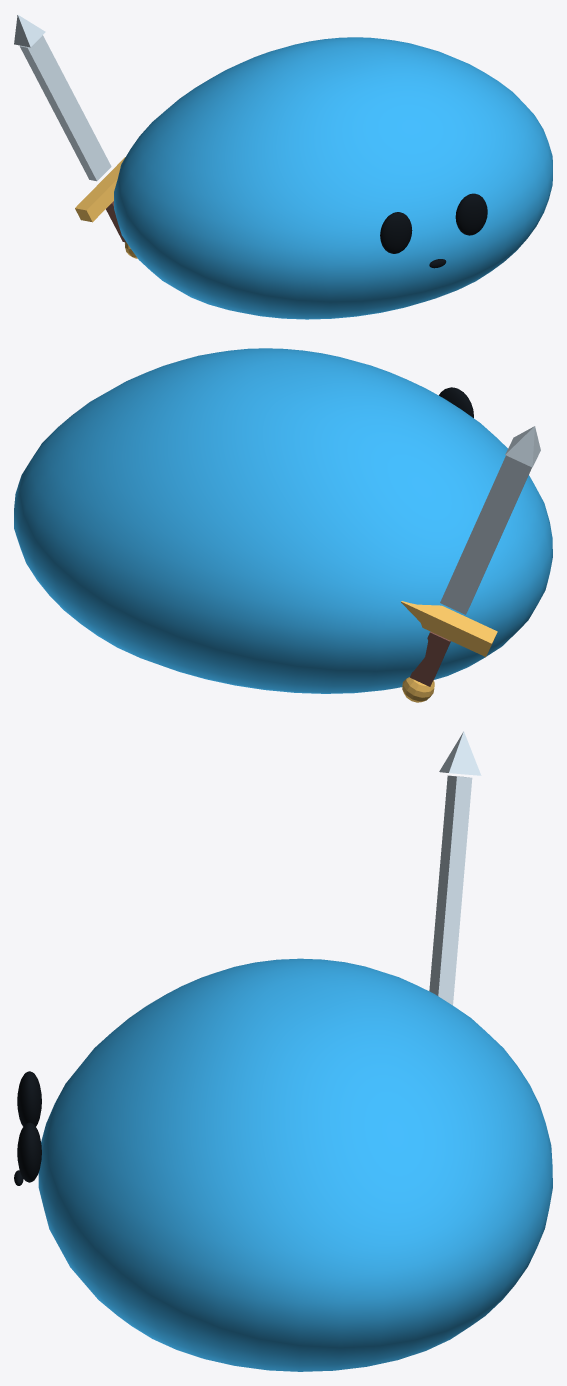
Rendered from sword-slime.glb.
3 views of the same model, one above another, from view 1: azimuth 30°, elevation 25°; view 2: azimuth 150°, elevation 25°; view 3: azimuth 270°, elevation 25° (orthographic). The views are drawn at different scales.
Parts seen in each view (by area): view 1: Body, Sword_Blade, Sword_Guard, Eye_R, Eye_L, Sword_Tip; view 2: Body, Sword_Blade, Sword_Guard, Sword_Grip, Sword_Tip, Sword_Pommel, Eye_L; view 3: Body, Sword_Blade, Eye_R, Eye_L, Sword_Tip.
Boxes of the visible parts, x1=… form: Body: x1=114, y1=37, x2=552, y2=319; Sword_Blade: x1=19, y1=35, x2=111, y2=181; Sword_Guard: x1=75, y1=157, x2=125, y2=222; Eye_R: x1=455, y1=193, x2=487, y2=235; Eye_L: x1=380, y1=212, x2=412, y2=253; Sword_Tip: x1=14, y1=15, x2=45, y2=47; Body: x1=14, y1=348, x2=552, y2=693; Sword_Blade: x1=440, y1=455, x2=531, y2=614; Sword_Guard: x1=401, y1=601, x2=497, y2=656; Sword_Grip: x1=410, y1=631, x2=450, y2=686; Sword_Tip: x1=505, y1=426, x2=540, y2=467; Sword_Pommel: x1=402, y1=677, x2=434, y2=702; Eye_L: x1=439, y1=387, x2=473, y2=417; Body: x1=38, y1=958, x2=552, y2=1371; Sword_Blade: x1=429, y1=775, x2=472, y2=1005; Eye_R: x1=17, y1=1122, x2=41, y2=1182; Eye_L: x1=17, y1=1071, x2=41, y2=1126; Sword_Tip: x1=439, y1=731, x2=481, y2=775.
Size of the model in its own units: 2.75 by 1.55 by 2.
